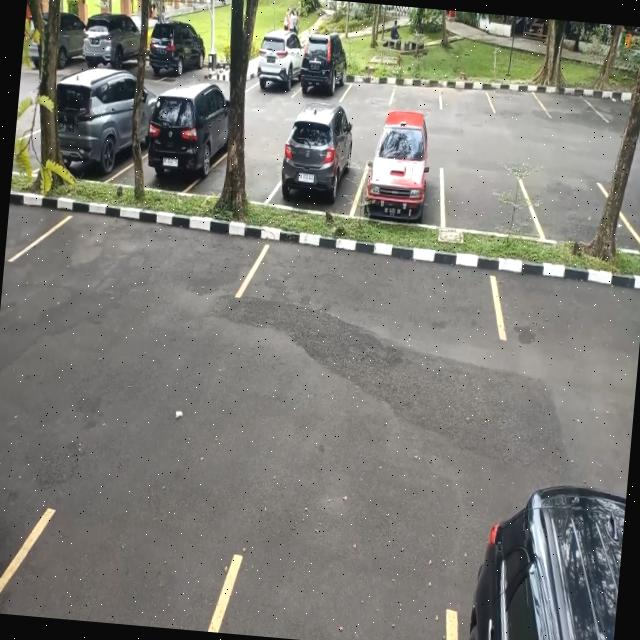empty: (236, 236, 512, 342), (0, 505, 238, 627), (213, 552, 459, 640), (526, 166, 630, 250), (438, 156, 534, 236), (542, 78, 597, 125), (489, 77, 546, 121), (439, 71, 493, 117), (391, 68, 444, 112), (344, 66, 395, 106)
occupied: (52, 68, 136, 185), (140, 88, 230, 196), (357, 119, 447, 227), (273, 114, 366, 213), (250, 36, 302, 99), (297, 41, 349, 103)
